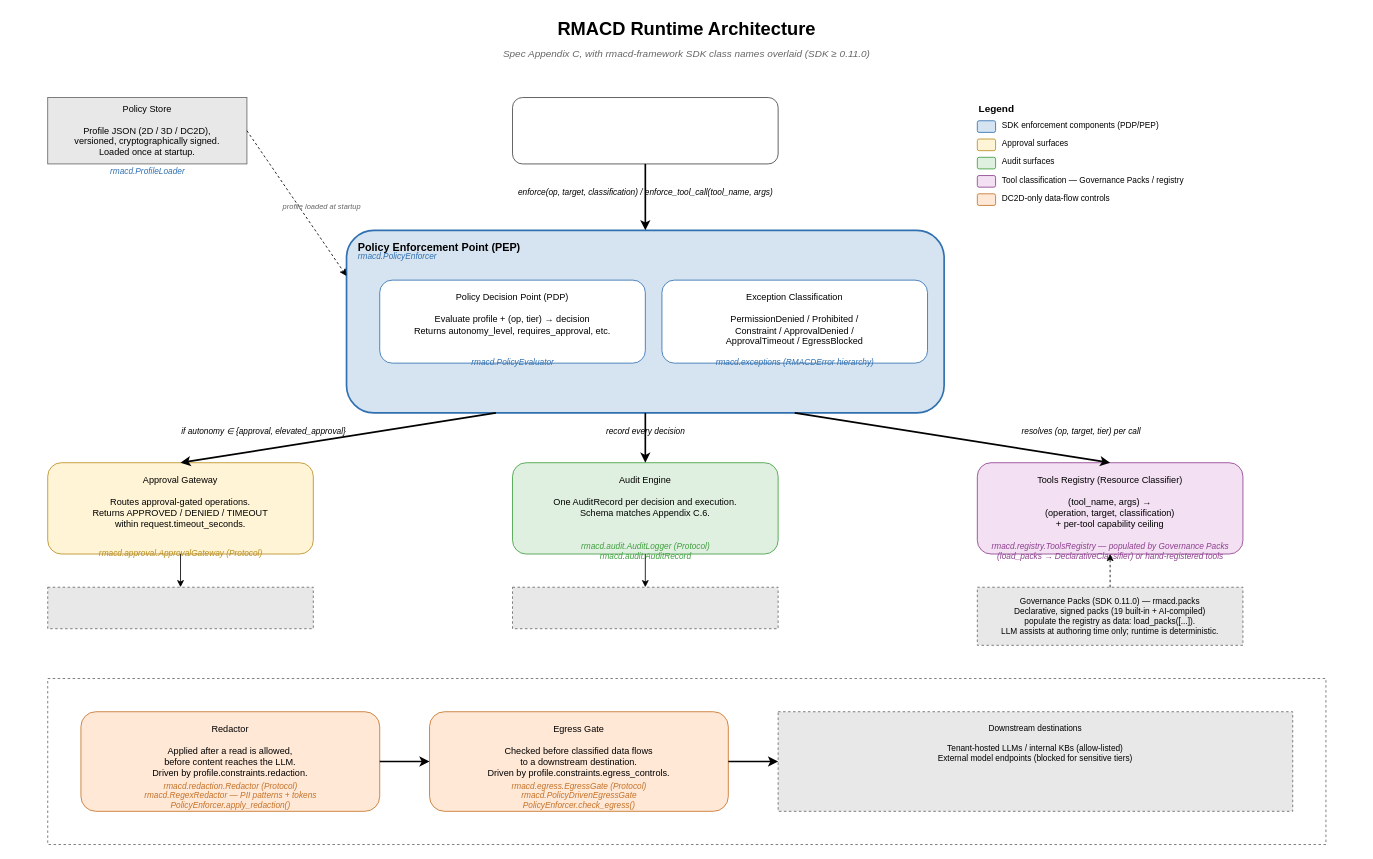
This 1373x859 diagram has some shape labels left out. Here are the shapes that lost their labels. From the top down, the box of each, then its label:
(512, 97, 778, 164): Agent Runtime Claude Agent SDK / Anthropic SDK / LangChain / AutoGen / CrewAI
(47, 586, 313, 629): ServiceNow / Jira / Slack / PagerDuty / CLI prompt / Webhook
(512, 586, 778, 629): JSONL on disk / SIEM / Immutable storage (WORM)
(47, 678, 1326, 845): DC2D-only data-flow controls (apply when profile.model = data-classification-2d)
